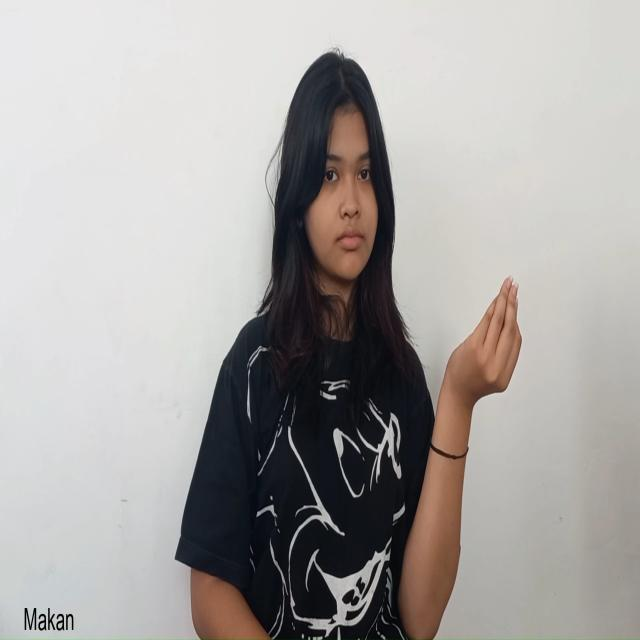Makan -BISINDO-: (439, 276, 523, 431)
